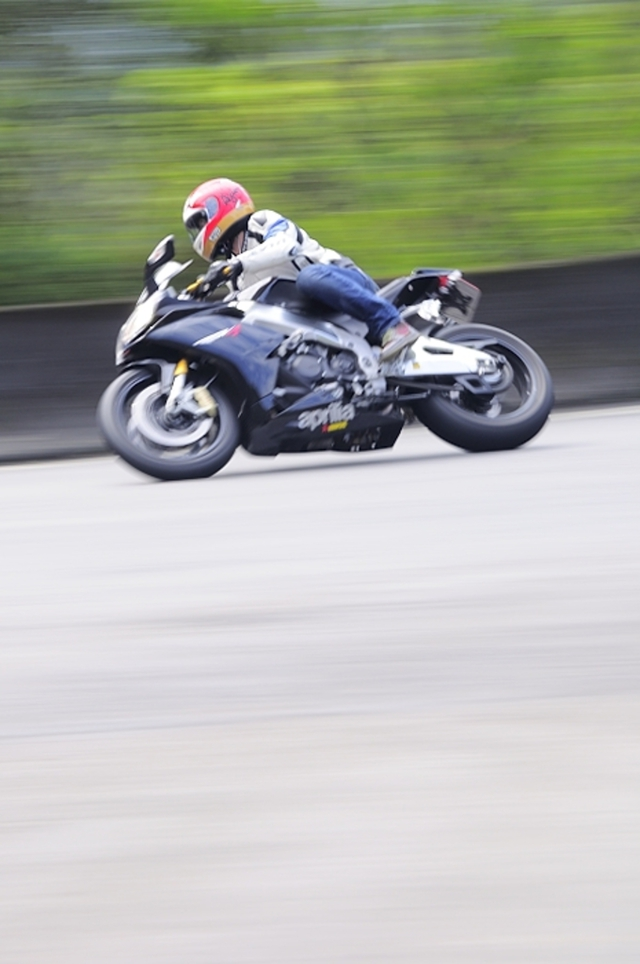helmet: (174, 170, 253, 251)
